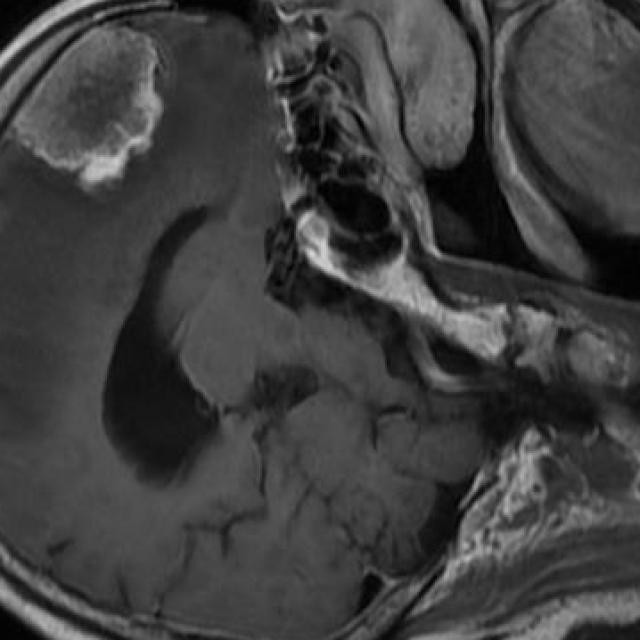meningioma: (14, 29, 162, 182)
